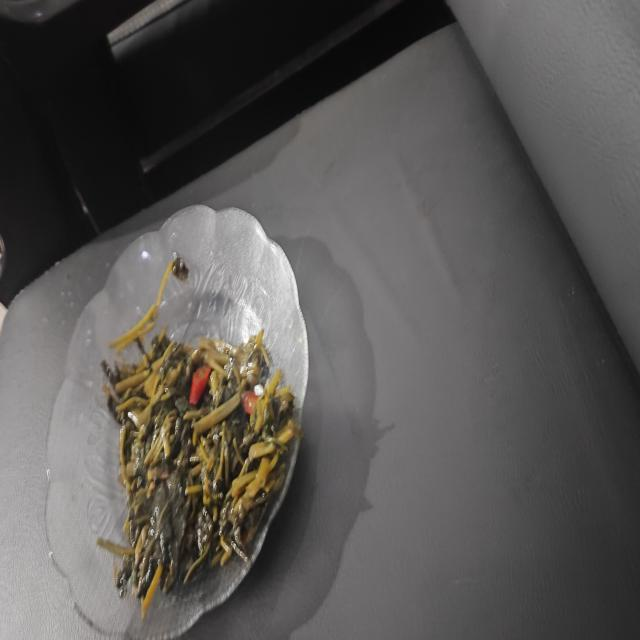tumis_kangkung: (97, 330, 302, 608)
